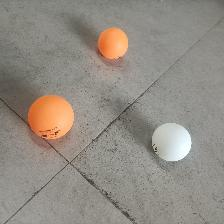WhiteBall: (149, 121, 192, 162)
YellowBall: (27, 93, 74, 140), (95, 25, 128, 59)
